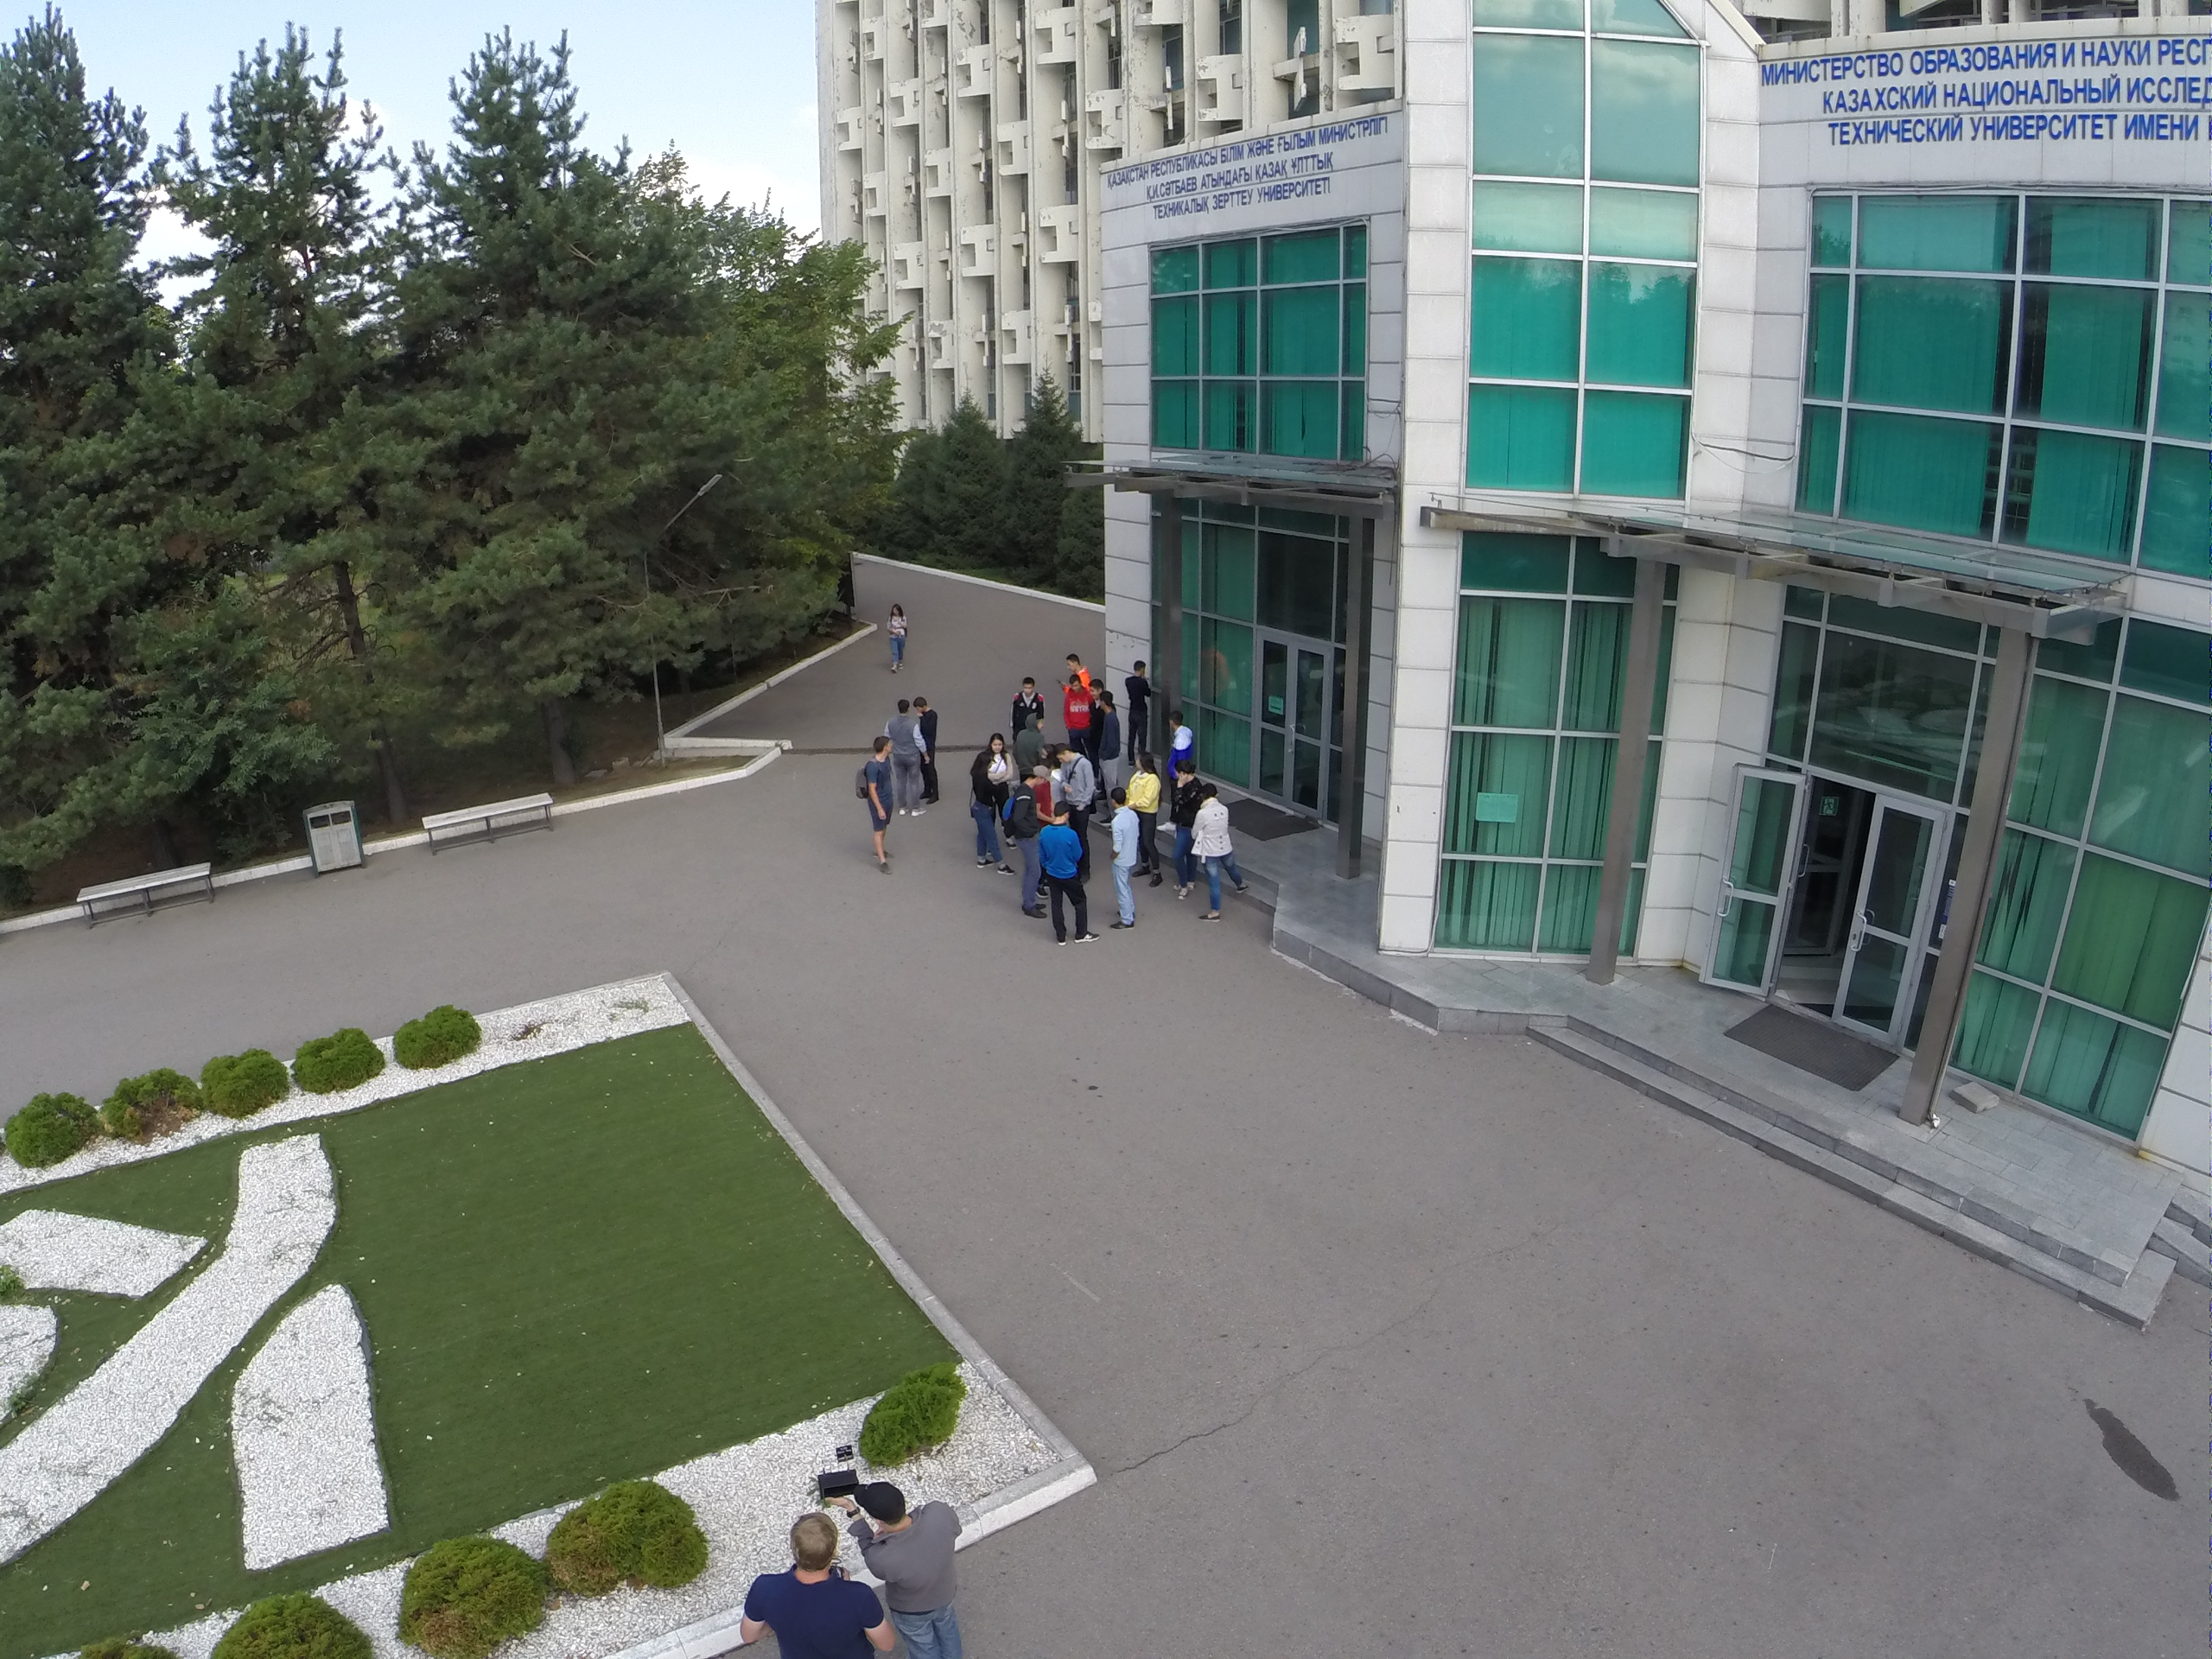person: (1040, 798, 1101, 947), (1194, 781, 1247, 928), (1008, 761, 1051, 924), (970, 756, 1016, 880), (859, 738, 898, 877), (885, 702, 928, 818), (1167, 757, 1199, 905), (1109, 786, 1140, 937), (1132, 748, 1164, 887), (988, 731, 1021, 851), (1125, 658, 1160, 757), (914, 692, 941, 804), (1097, 694, 1116, 835), (1057, 746, 1096, 800), (1062, 678, 1093, 741), (1012, 673, 1045, 724), (885, 604, 907, 677), (1065, 654, 1089, 677)
